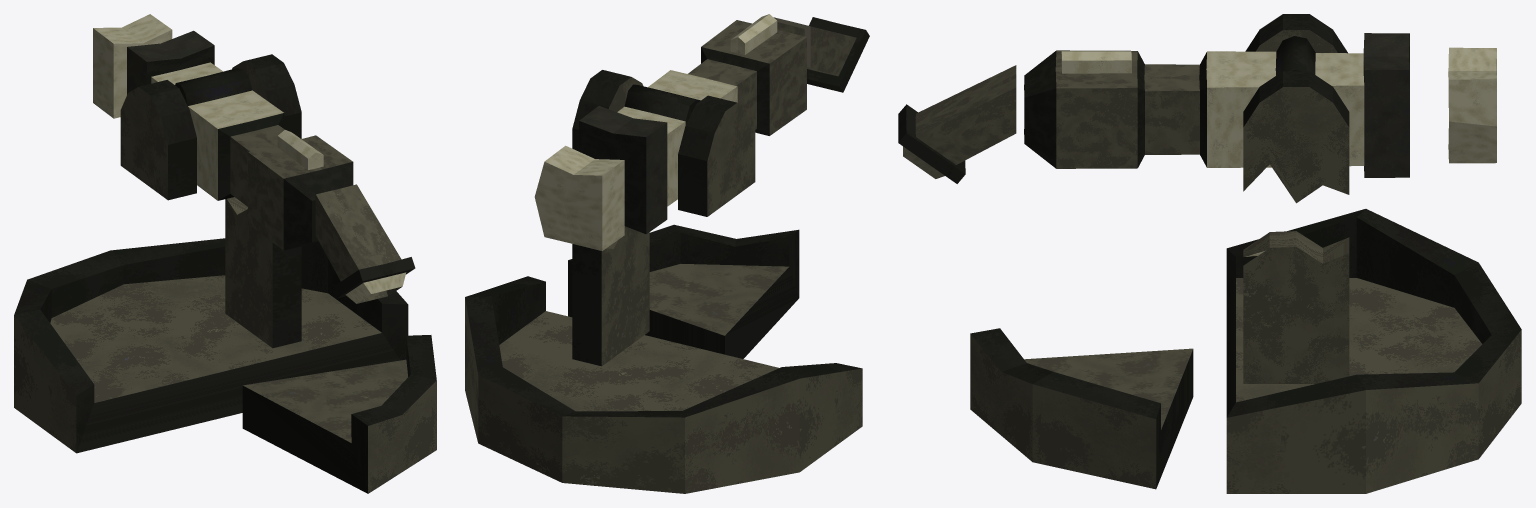
The model's file is turret SHARDS.fbx.
3 renders of one model, left to right at view 1: azimuth 30°, elevation 25°; view 2: azimuth 150°, elevation 25°; view 3: azimuth 270°, elevation 25°, orthographic. The views are drawn at different scales.
Parts seen in each view (by area): view 1: Cylinder.003, Cylinder.002, Cylinder.010, Cylinder.005, Cylinder.006, Cylinder.008, Cylinder.009, Cylinder.001; view 2: Cylinder.003, Cylinder.002, Cylinder.010, Cylinder.005, Cylinder.006, Cylinder.009, Cylinder.008, Cylinder.001; view 3: Cylinder.003, Cylinder.002, Cylinder.010, Cylinder.005, Cylinder.001, Cylinder.008, Cylinder.009, Cylinder.006.
Boxes of the visible parts, box(x1,y1,x2,y2) form: Cylinder.003: box(14, 238, 408, 453); Cylinder.002: box(127, 30, 353, 250); Cylinder.010: box(242, 335, 436, 493); Cylinder.005: box(225, 197, 301, 348); Cylinder.006: box(120, 80, 196, 200); Cylinder.008: box(315, 184, 415, 303); Cylinder.009: box(93, 14, 172, 118); Cylinder.001: box(232, 54, 301, 138); Cylinder.003: box(465, 276, 862, 493); Cylinder.002: box(579, 14, 806, 234); Cylinder.010: box(568, 224, 799, 358); Cylinder.005: box(572, 226, 649, 366); Cylinder.006: box(678, 95, 755, 216); Cylinder.009: box(534, 145, 624, 250); Cylinder.008: box(774, 17, 869, 92); Cylinder.001: box(572, 70, 643, 151); Cylinder.003: box(1226, 209, 1521, 493); Cylinder.002: box(1024, 33, 1409, 177); Cylinder.010: box(970, 328, 1193, 489); Cylinder.005: box(1243, 231, 1349, 383); Cylinder.001: box(1243, 71, 1349, 203); Cylinder.008: box(898, 65, 1016, 183); Cylinder.009: box(1448, 47, 1496, 163); Cylinder.006: box(1245, 14, 1347, 53).
Bounding box in the file's own units: 265 × 241 × 385.
